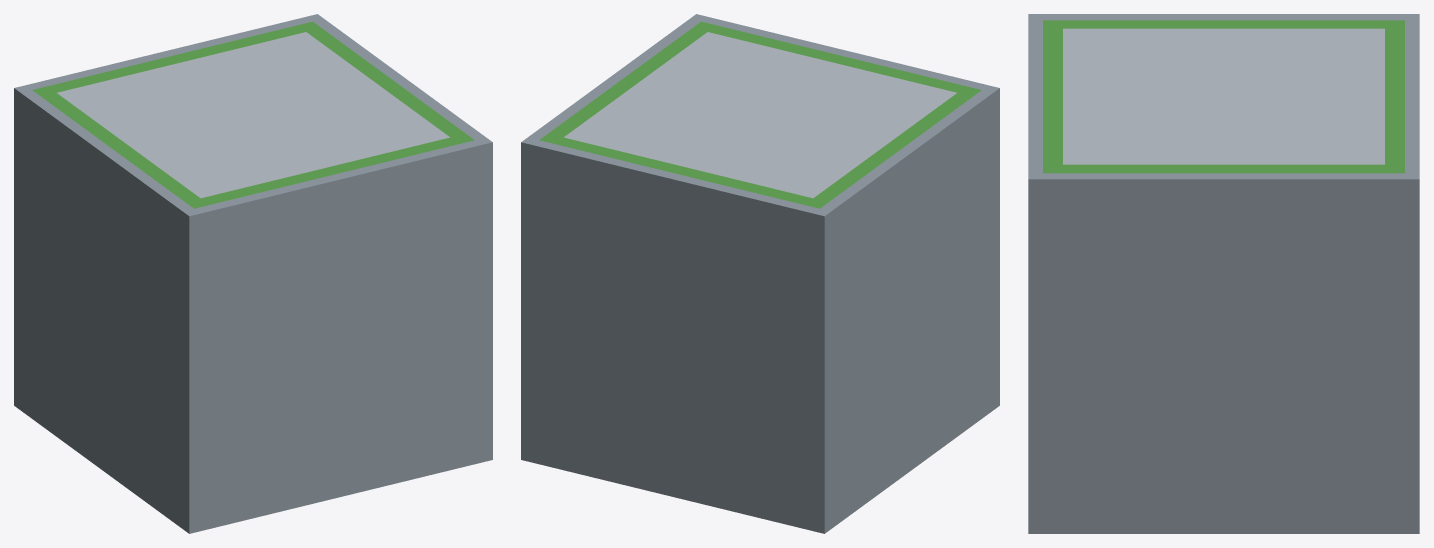
The model's file is Superficie.fbx.
3 views of the same model, side by side, from view 1: azimuth 30°, elevation 25°; view 2: azimuth 150°, elevation 25°; view 3: azimuth 270°, elevation 25° (orthographic). The views are drawn at different scales.
Visible parts, largest first — view 1: Cube; view 2: Cube; view 3: Cube.
Part boxes in pixels (<box>): Cube: <box>14,14,492,533</box>; Cube: <box>521,14,999,533</box>; Cube: <box>1028,14,1419,533</box>.
Size of the model in its own units: 12 by 12 by 12.
